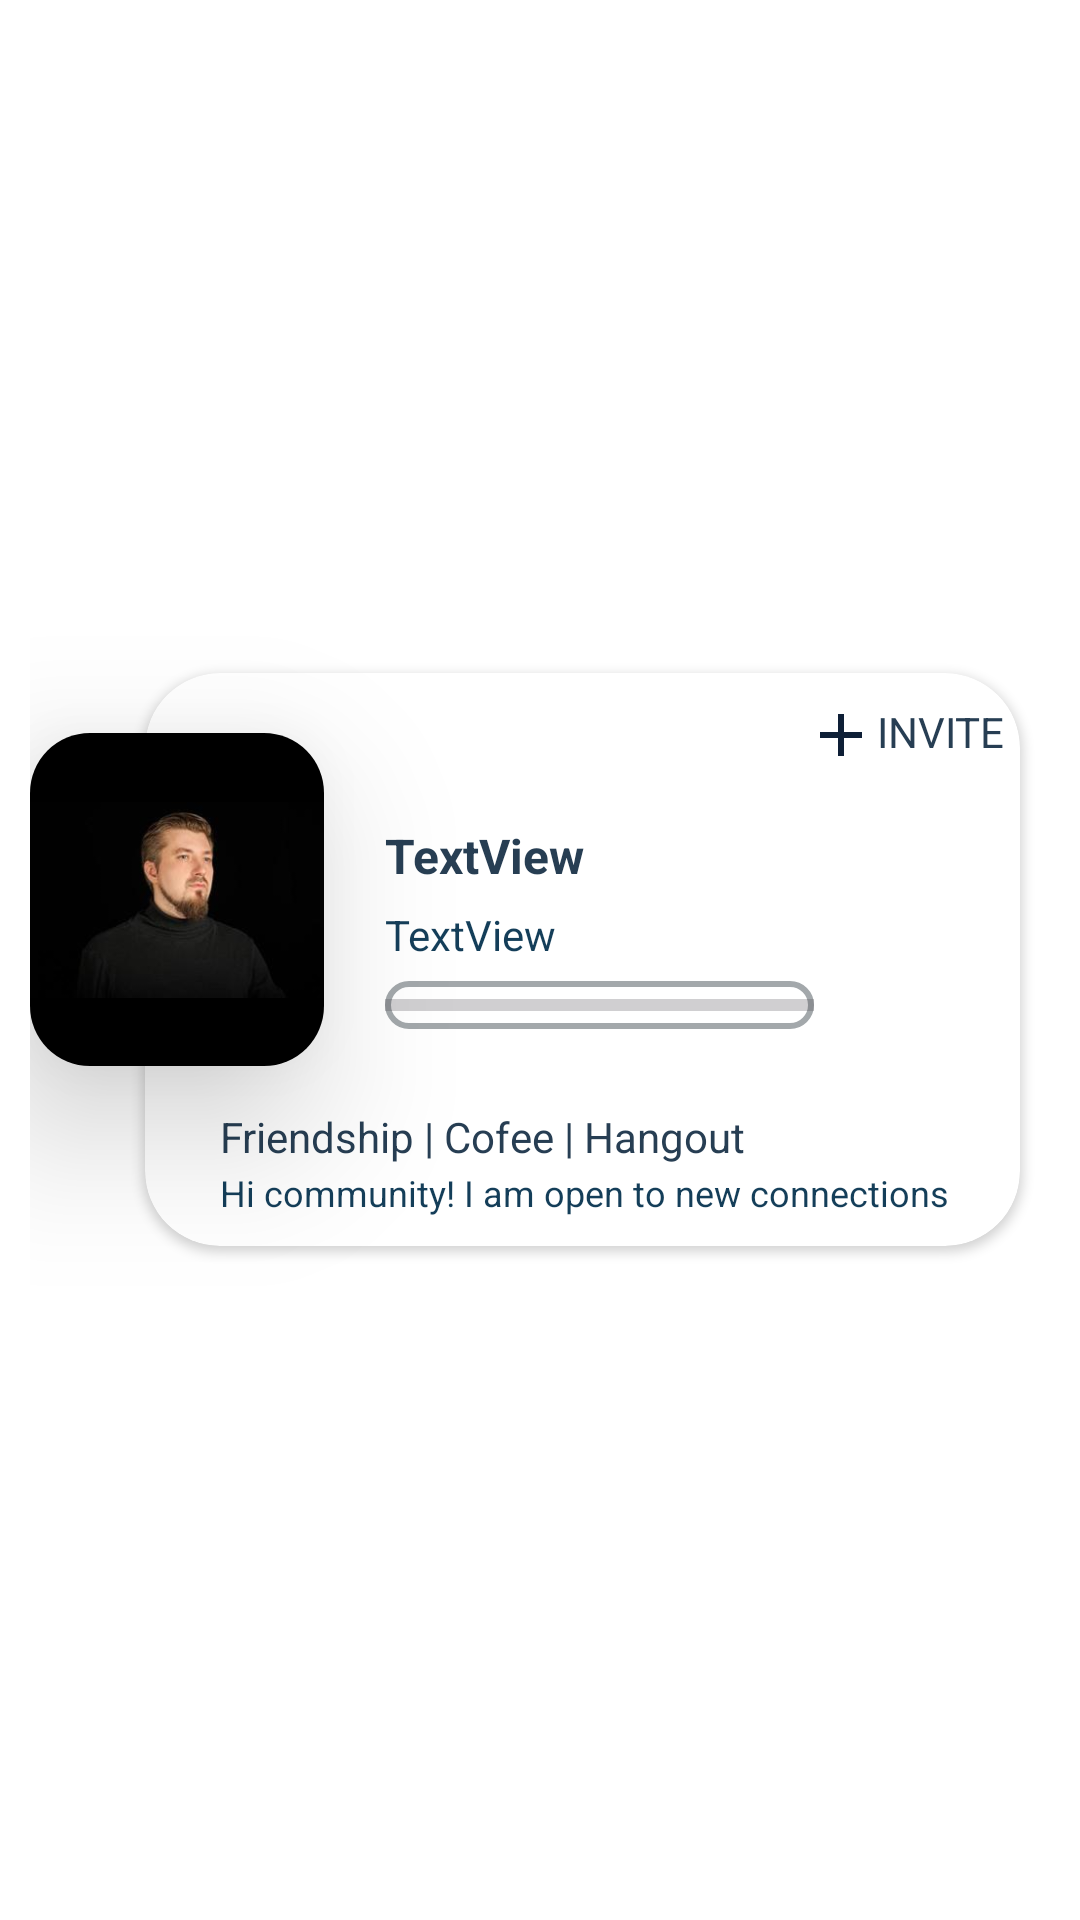

Icon click points for this 1080 x 1920 phone screenshot, format (x,y):
man: (177,899)
